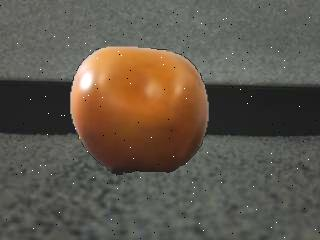Potato: (70, 47, 212, 179)
